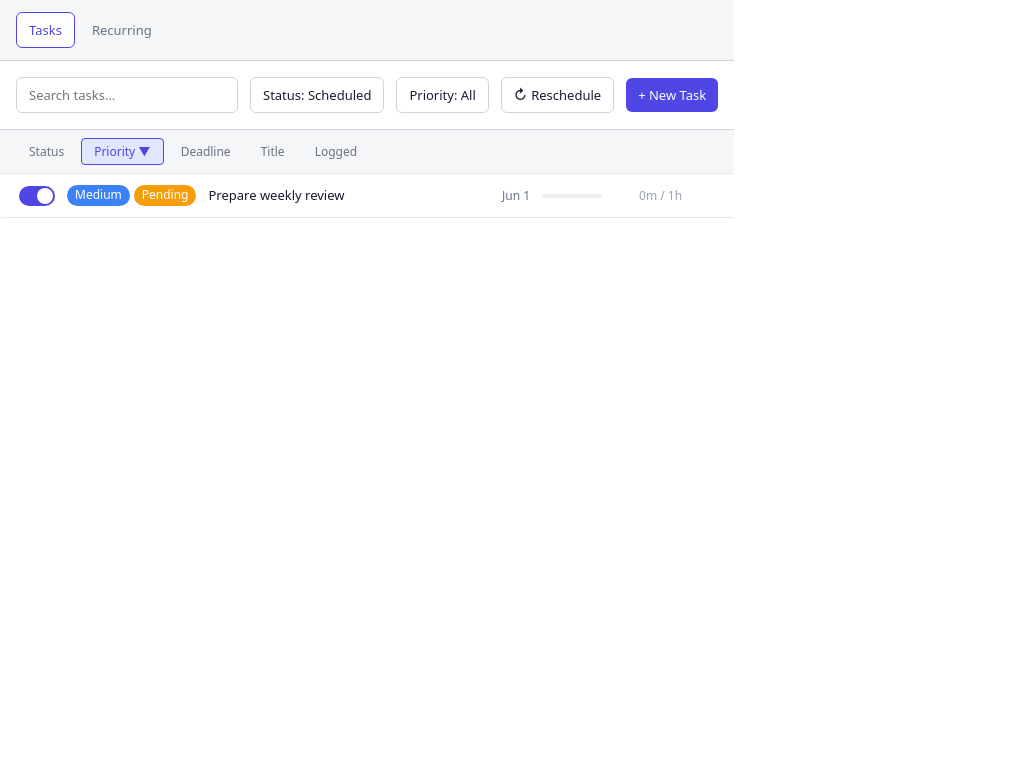
Test: TaskListView — recurring tab › switches to recurring and opens the matching template editor from task detail
Click the text "Prepare weekly review": x=276, y=195 [208,186,344,204]
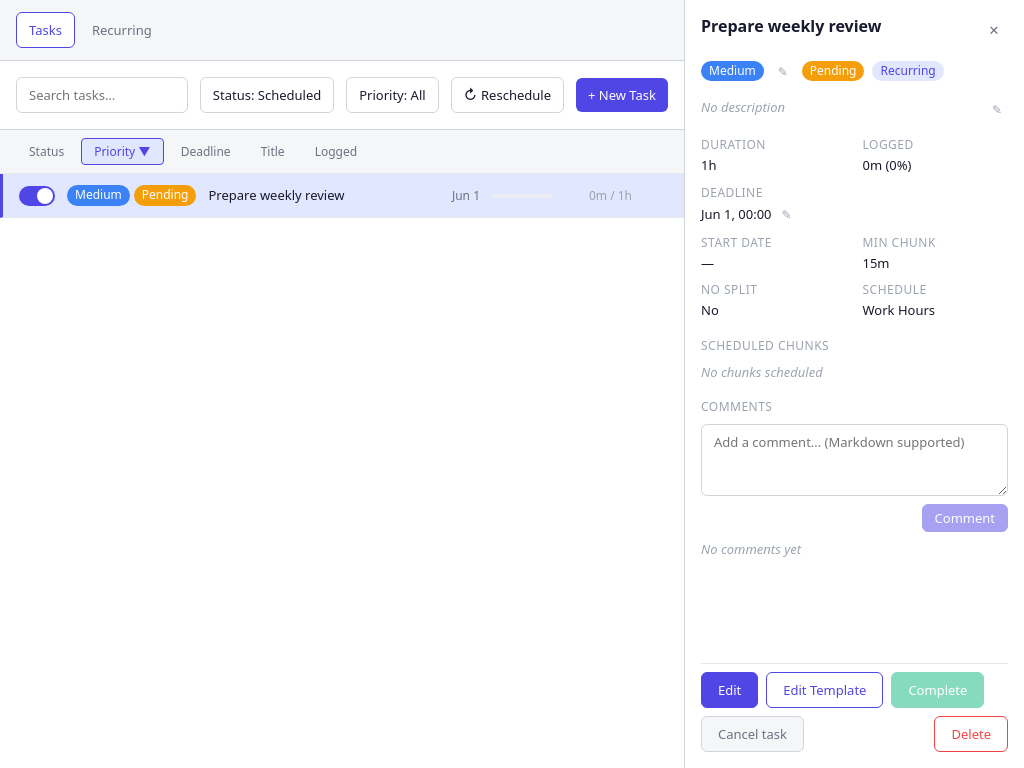
Click the button "Edit Template": x=825, y=690 [766,672,883,708]
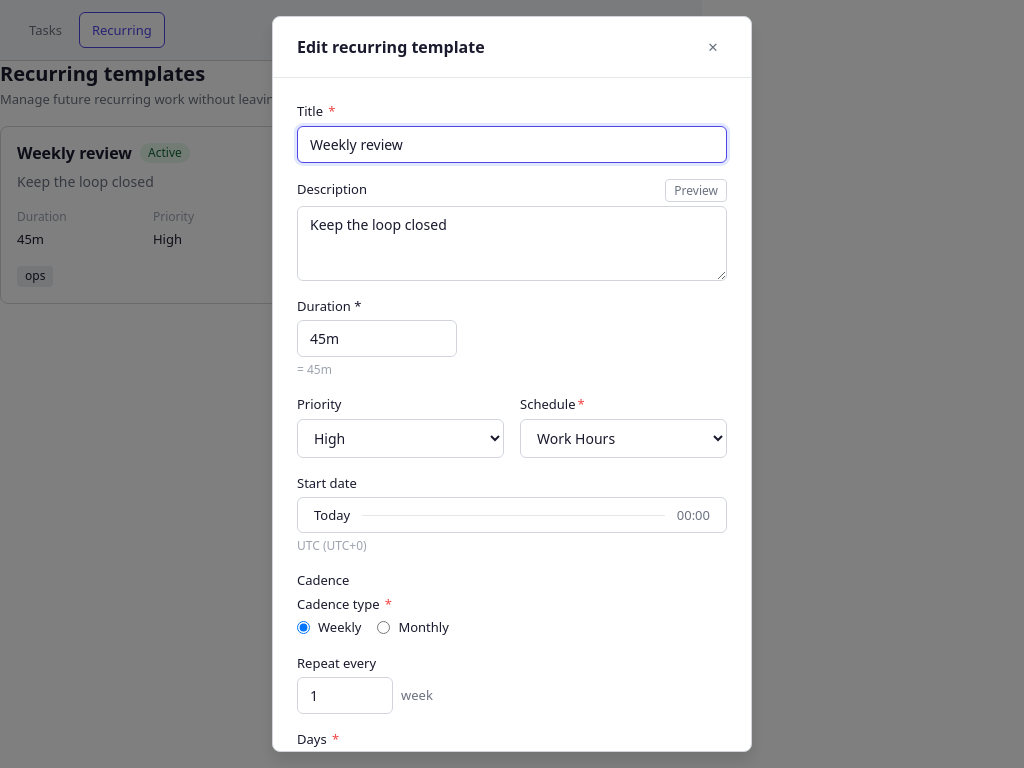
Now the heading "Edit recurring template" is shown, box [297,37,485,57]
Now the field labelled "Title *" holds "Weekly review", box [297,126,727,162]
